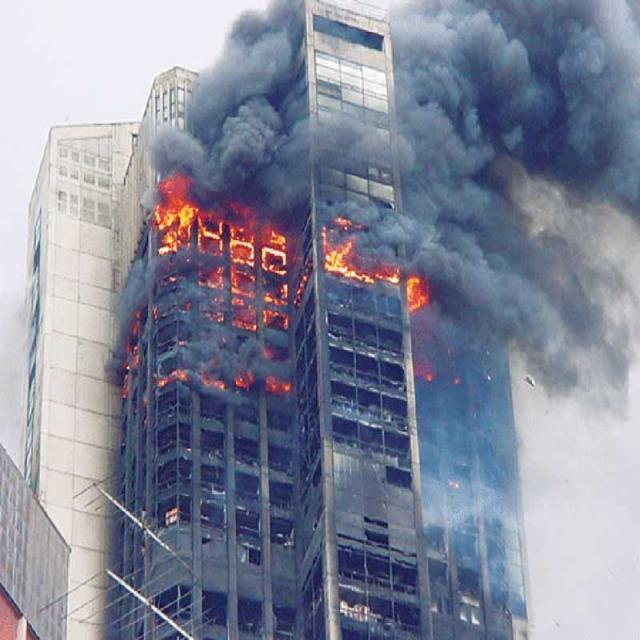Fire: (112, 185, 290, 396), (316, 218, 426, 312), (410, 347, 465, 393)
Smoke: (403, 0, 640, 210), (148, 1, 398, 182), (430, 214, 640, 341), (470, 345, 640, 418)
